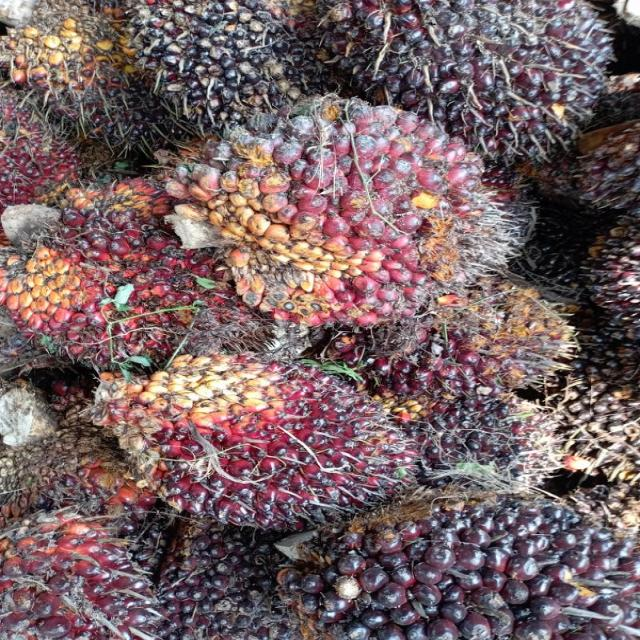fraksi 1: (125, 39, 568, 373), (33, 299, 450, 591), (0, 161, 302, 423)
